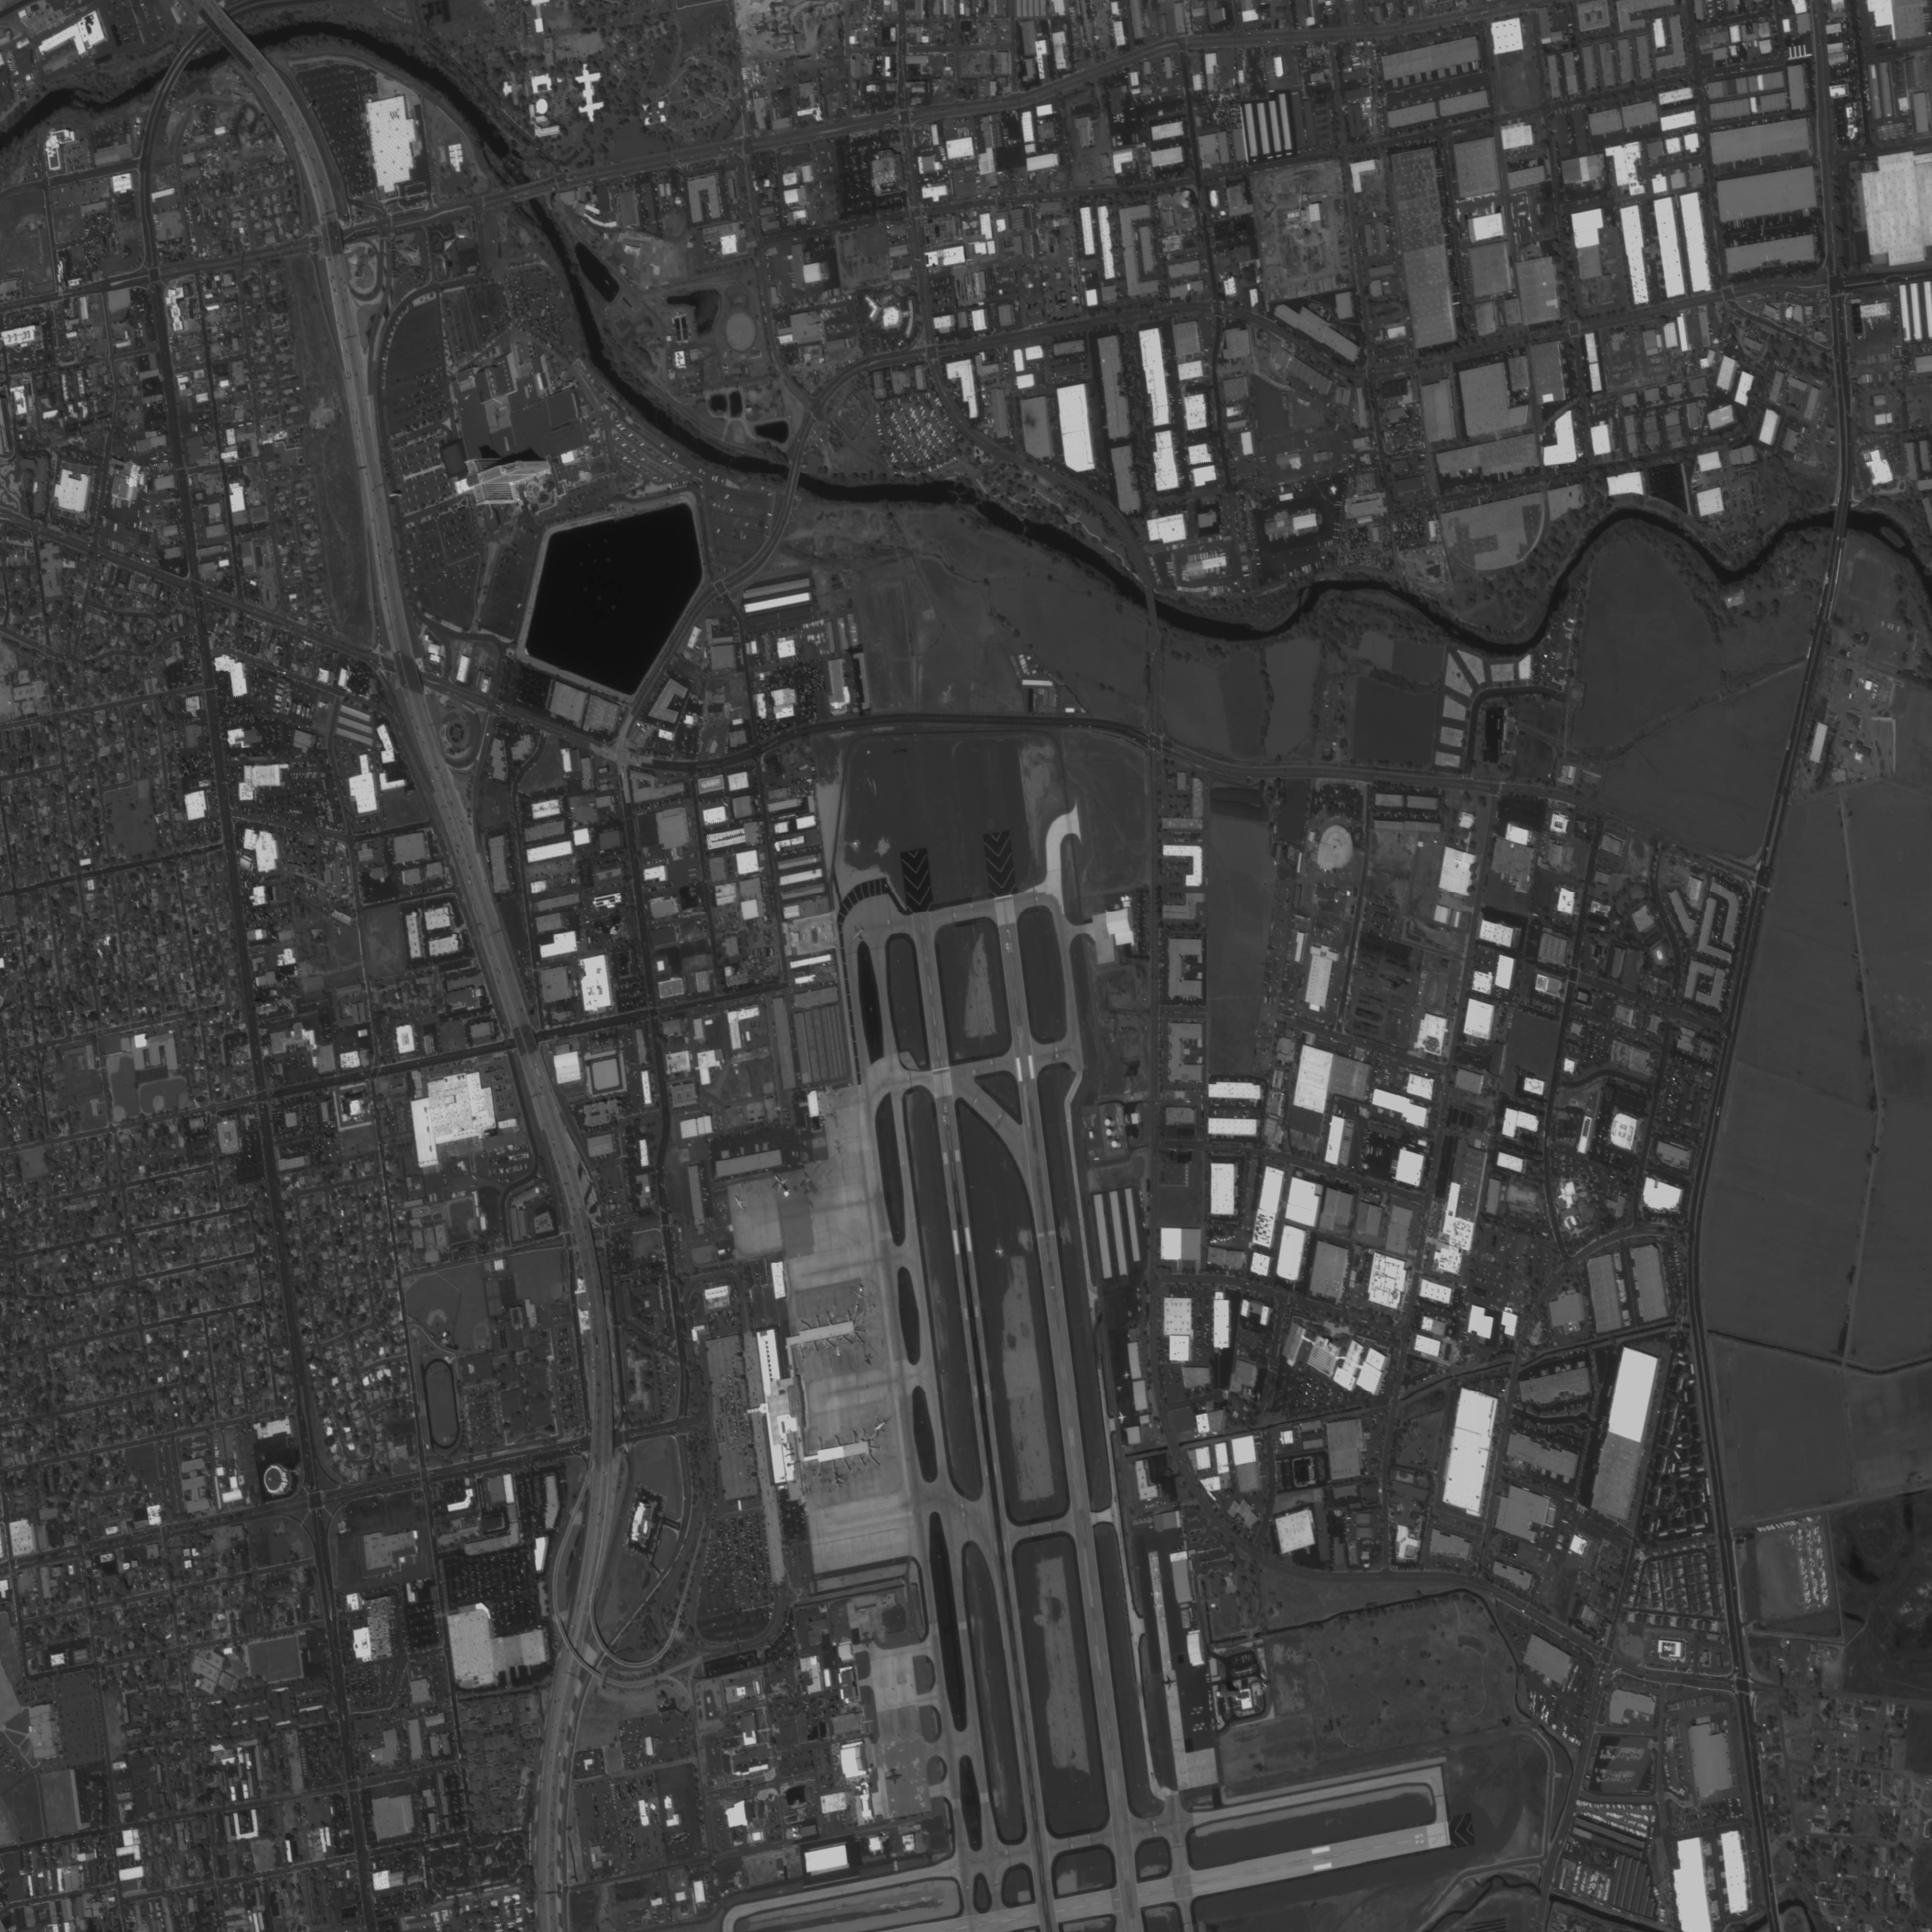baseball diamond: (469, 1318, 492, 1348), (425, 1309, 449, 1330)
bridge: (214, 18, 264, 71), (157, 46, 193, 90), (506, 177, 547, 203), (1833, 504, 1851, 533), (784, 465, 801, 487), (1145, 591, 1157, 621)
ground track field: (419, 1352, 465, 1451)
plane: (766, 1168, 798, 1200), (846, 918, 872, 947), (729, 1191, 750, 1214), (869, 1414, 890, 1435), (883, 1766, 904, 1787), (856, 1629, 876, 1651), (828, 1468, 847, 1490), (1161, 1672, 1180, 1693), (851, 1284, 869, 1302), (1115, 1408, 1129, 1426), (862, 1300, 878, 1315), (830, 1345, 844, 1357), (1148, 1587, 1162, 1598), (1154, 1599, 1162, 1610), (1148, 1553, 1157, 1562), (1123, 1307, 1132, 1316), (1122, 1368, 1129, 1378)
storage tank: (1104, 1118, 1113, 1127), (1111, 1141, 1122, 1148), (1106, 1129, 1115, 1136)
